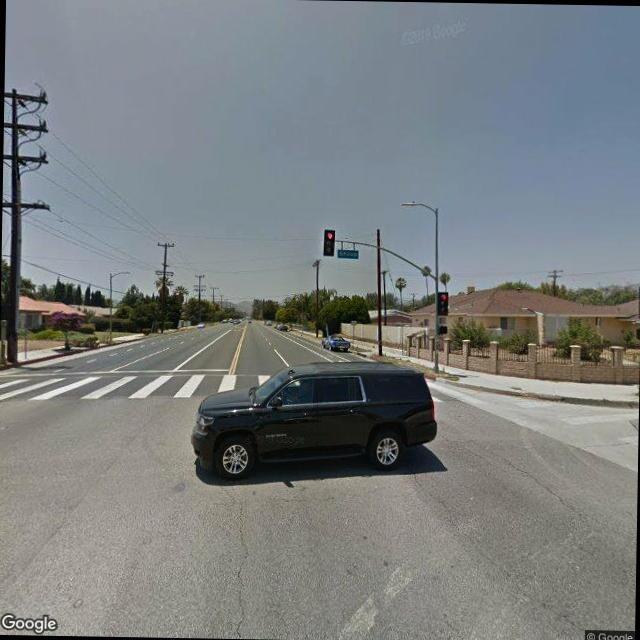pothole: (395, 448, 575, 622), (462, 426, 582, 518), (227, 490, 252, 638)
